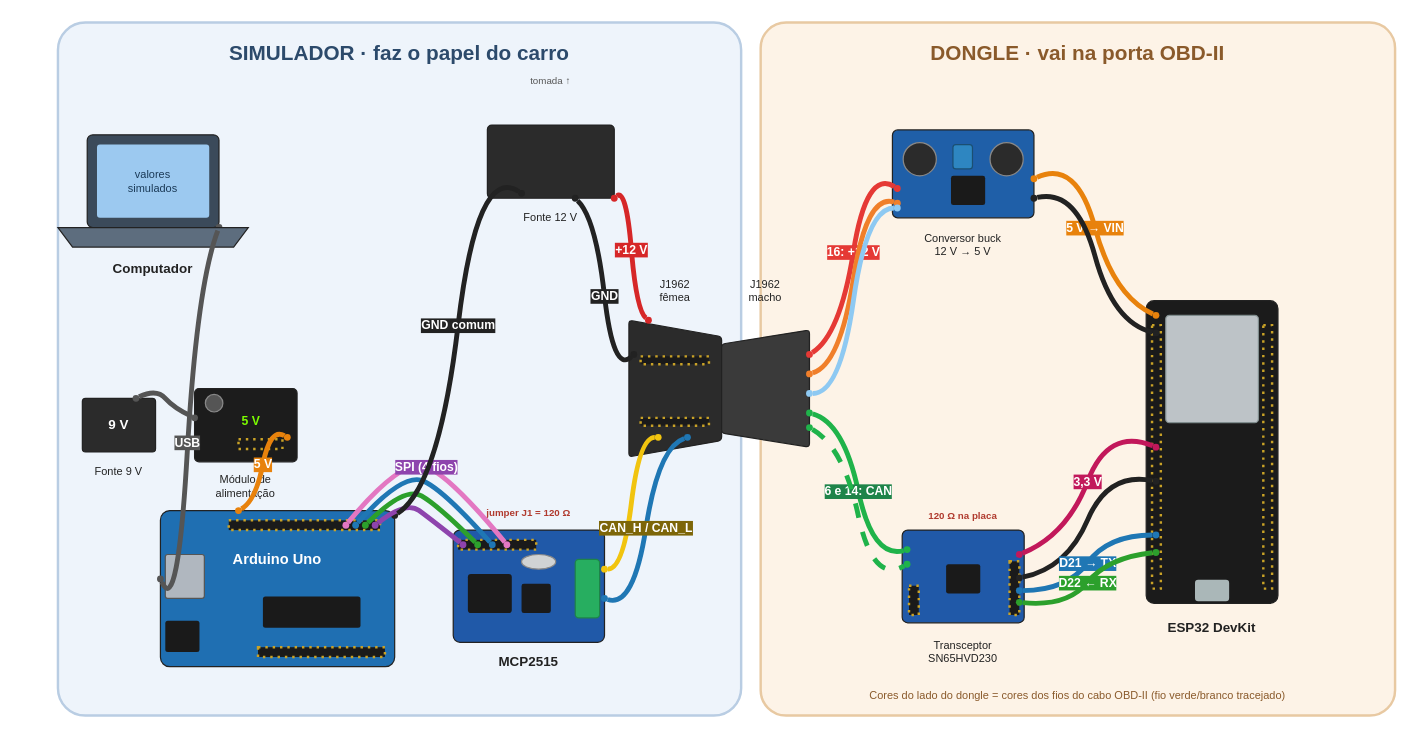
The diagram is 1418 pixels wide and 737 high, and some of its shapes have lost their labels. Here are the shapes that lost their labels. From the top down, the centre of each, then its label:
At point 550,161: "12 V".
At point 1211,368: "ESP32".
